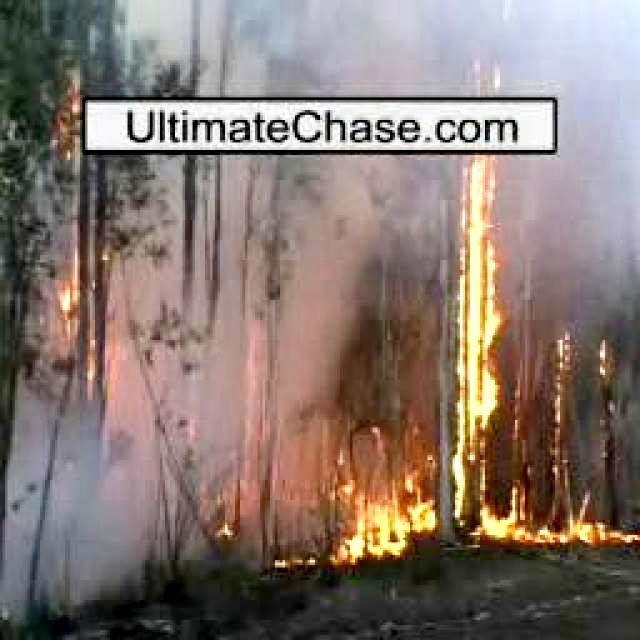fire: (445, 70, 503, 550), (311, 474, 443, 558), (56, 260, 118, 390), (516, 492, 632, 552), (552, 329, 572, 461), (58, 90, 90, 150), (211, 478, 237, 550), (598, 340, 610, 392)
